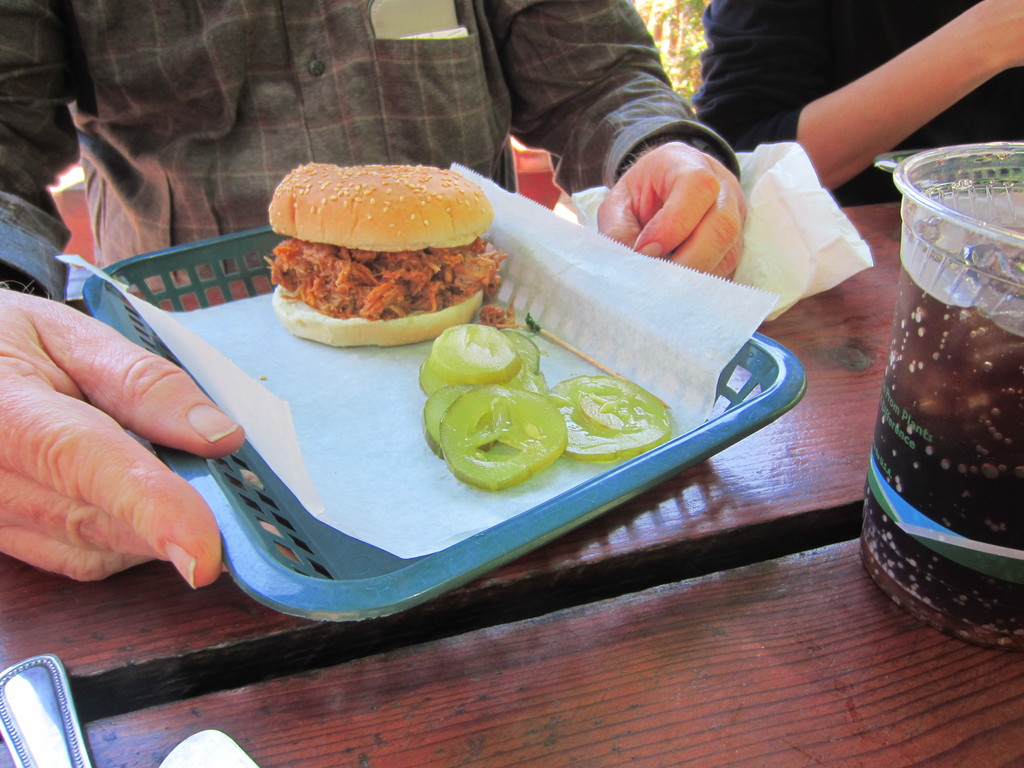Hamburger: (272, 149, 489, 352)
